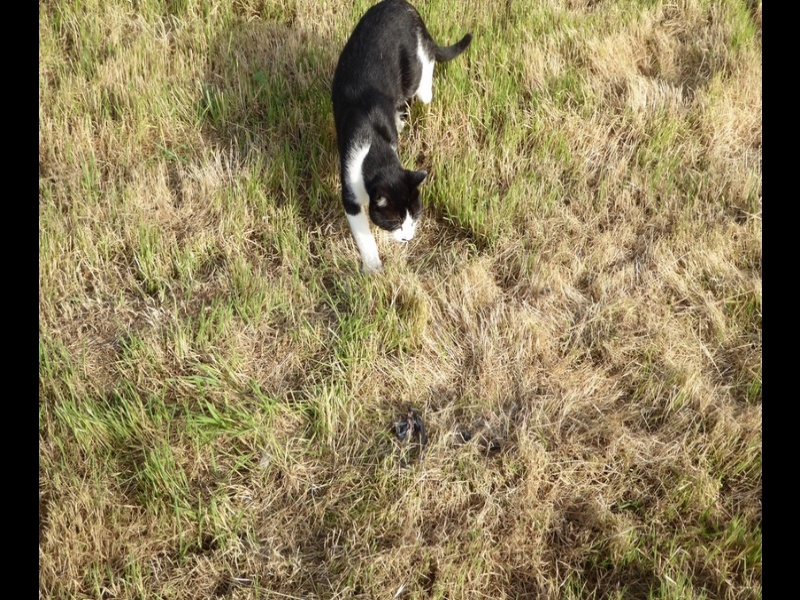cat: (325, 1, 474, 274)
